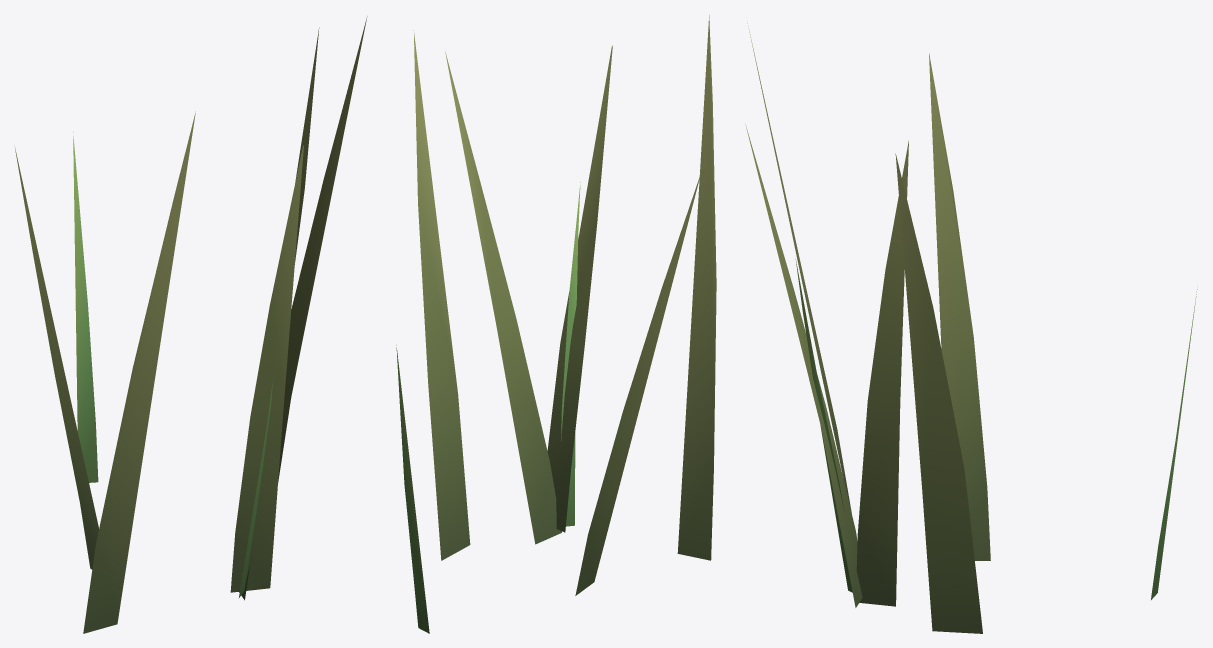
File: BroadBlade_LOD1.glb
3 views of the same model, side by side, from view 1: azimuth 30°, elevation 25°; view 2: azimuth 150°, elevation 25°; view 3: azimuth 270°, elevation 25° (orthographic). The views are drawn at different scales.
Visible parts, largest first — view 1: BroadBlade_LOD1; view 2: BroadBlade_LOD1; view 3: BroadBlade_LOD1.
Part boxes in pixels (x1,y1,x2,y2): BroadBlade_LOD1: (14, 16, 367, 633); BroadBlade_LOD1: (396, 15, 716, 633); BroadBlade_LOD1: (745, 23, 1197, 633).
Size of the model in its own units: 0.217 by 0.3441 by 0.2623.
